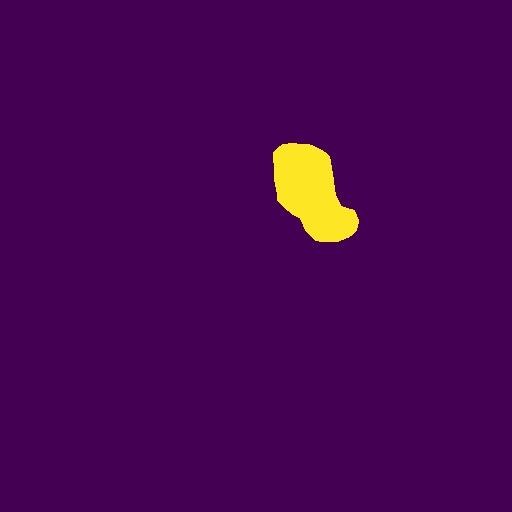Menigiomia_tumour: (273, 143, 359, 242)
